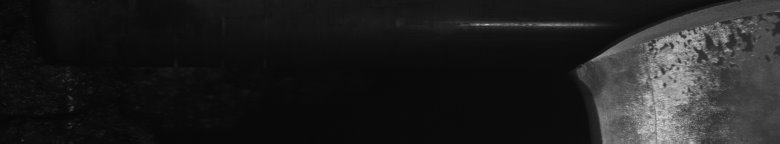kb: (568, 0, 776, 144)
